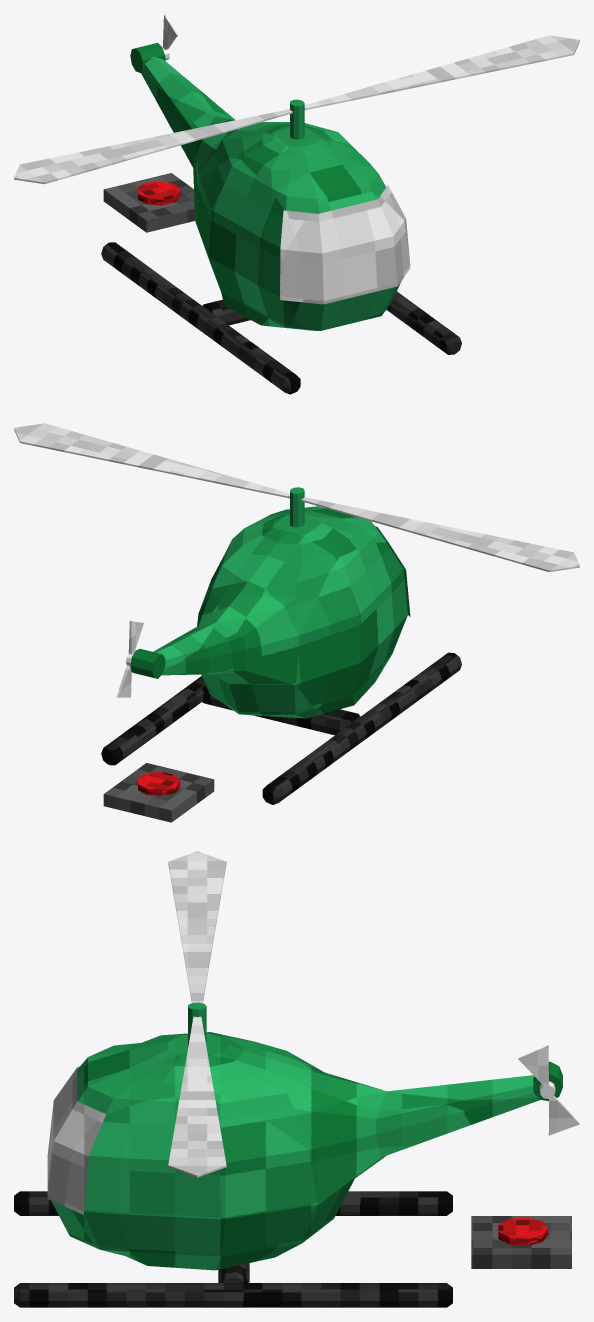
The model's file is helicopter.fbx.
3 renders of one model, top to bottom at view 1: azimuth 30°, elevation 25°; view 2: azimuth 150°, elevation 25°; view 3: azimuth 270°, elevation 25°, orthographic. The views are drawn at different scales.
Parts seen in each view (by area): view 1: helicop, chopchop, frame2, activ, helicop2, activ2, frame1; view 2: helicop, chopchop, frame2, activ, helicop2, frame1, activ2; view 3: helicop, frame2, chopchop, activ, helicop2, activ2.
Boxes of the visible parts, left/top/right/bottom form: helicop: left=141, top=56, right=410, bottom=330; chopchop: left=14, top=35, right=579, bottom=184; frame2: left=101, top=242, right=461, bottom=394; activ: left=103, top=173, right=195, bottom=232; helicop2: left=130, top=14, right=177, bottom=72; activ2: left=138, top=181, right=180, bottom=205; frame1: left=202, top=299, right=250, bottom=325; helicop: left=153, top=487, right=410, bottom=718; chopchop: left=14, top=423, right=579, bottom=572; frame2: left=101, top=652, right=461, bottom=804; activ: left=103, top=763, right=214, bottom=822; helicop2: left=116, top=621, right=165, bottom=697; frame1: left=202, top=683, right=360, bottom=735; activ2: left=138, top=772, right=180, bottom=795; helicop: left=47, top=1002, right=539, bottom=1270; frame2: left=14, top=1191, right=452, bottom=1307; chopchop: left=168, top=851, right=226, bottom=1177; activ: left=471, top=1216, right=571, bottom=1268; helicop2: left=518, top=1045, right=579, bottom=1135; activ2: left=498, top=1217, right=548, bottom=1245.
Bounding box in the file's own units: 564 × 209 × 416.
6 materials, 6 textured.
